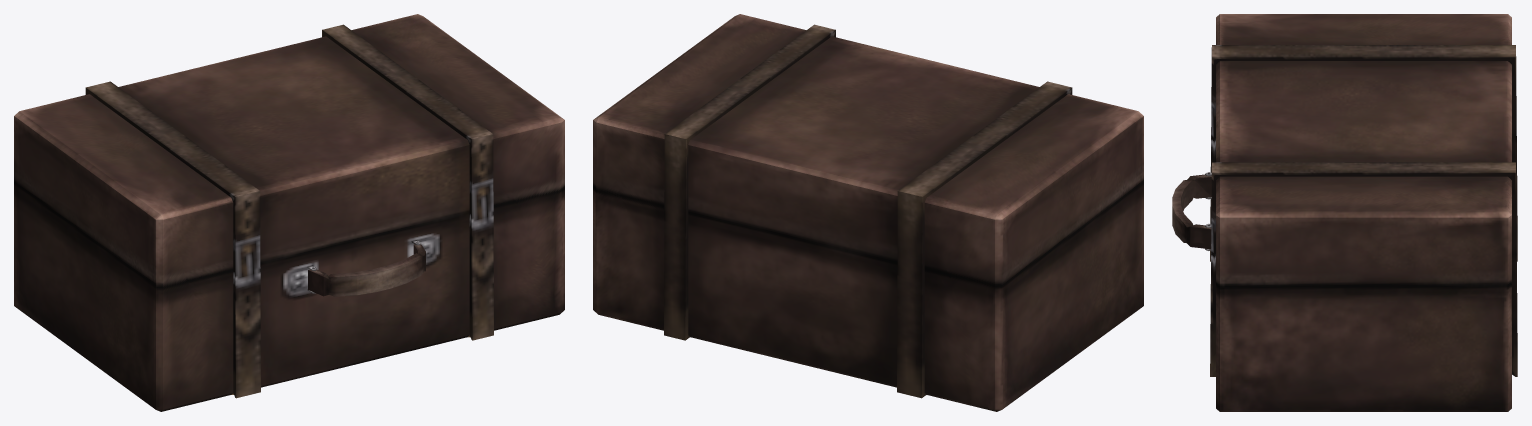
Rendered from Suitcase.fbx.
3 views of the same model, side by side, from view 1: azimuth 30°, elevation 25°; view 2: azimuth 150°, elevation 25°; view 3: azimuth 270°, elevation 25° (orthographic).
Visible parts, largest first — view 1: Suitcase; view 2: Suitcase; view 3: Suitcase.
Boxes of the visible parts, box(x1,y1,x2,y2) form: Suitcase: box(14, 14, 564, 411); Suitcase: box(593, 14, 1143, 411); Suitcase: box(1172, 14, 1517, 411).
Size of the model in its own units: 325 by 152 by 234.
